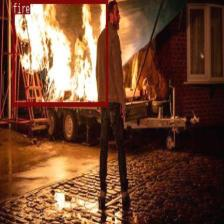fire: (12, 0, 107, 105)
